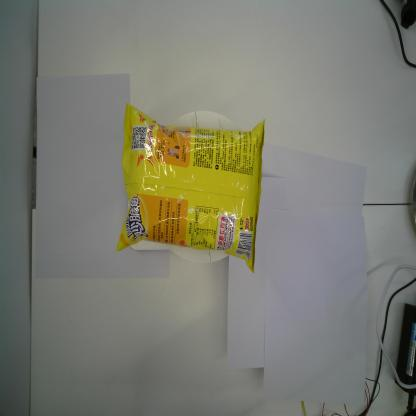Puffed Food: (113, 99, 265, 277)
